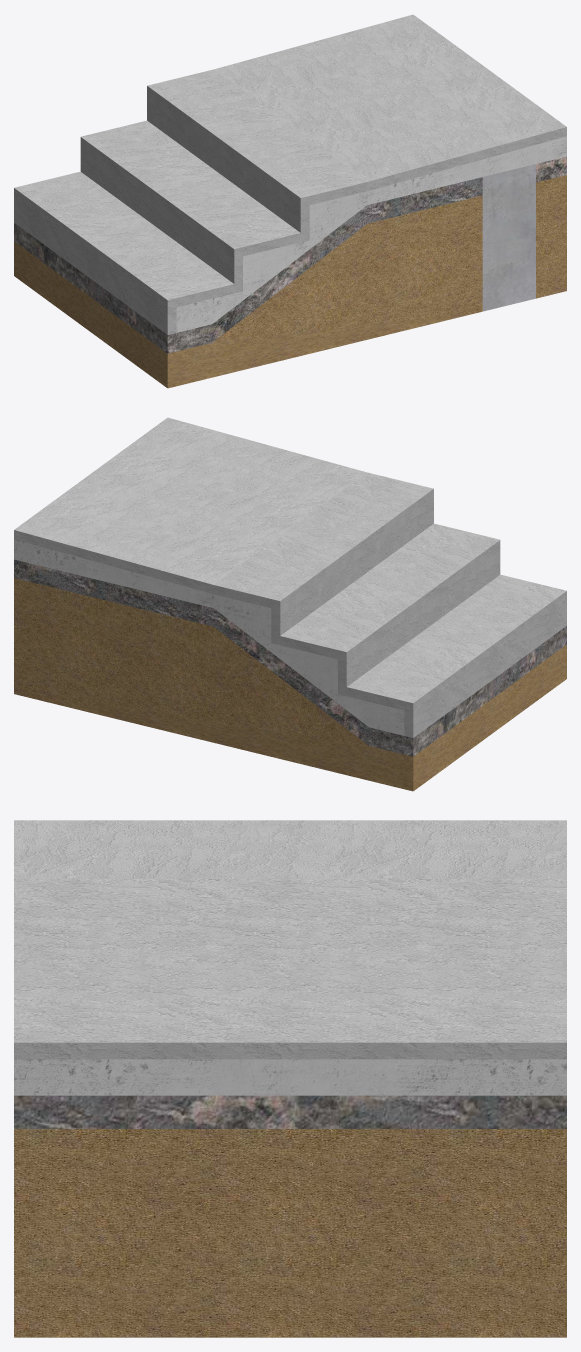
Rendered from concrete-steps.glb.
The picture shows the model from 3 angles, top to bottom: view 1: azimuth 30°, elevation 25°; view 2: azimuth 150°, elevation 25°; view 3: azimuth 270°, elevation 25°; orthographic projection. The views are drawn at different scales.
Parts seen in each view (by area): view 1: 面层, 素土夯实, 80mm 厚碎石, C15 混凝土, 墙柱; view 2: 面层, 素土夯实, 80mm 厚碎石, C15 混凝土; view 3: 面层, 素土夯实, C15 混凝土, 80mm 厚碎石.
Part boxes in pixels (x1=…): 面层: x1=14, y1=14, x2=566, y2=334; 素土夯实: x1=14, y1=175, x2=566, y2=388; 80mm 厚碎石: x1=14, y1=156, x2=566, y2=353; C15 混凝土: x1=176, y1=136, x2=566, y2=332; 墙柱: x1=482, y1=164, x2=535, y2=311; 面层: x1=14, y1=417, x2=566, y2=737; 素土夯实: x1=14, y1=578, x2=566, y2=791; 80mm 厚碎石: x1=14, y1=559, x2=566, y2=756; C15 混凝土: x1=14, y1=539, x2=404, y2=735; 面层: x1=14, y1=820, x2=566, y2=1059; 素土夯实: x1=14, y1=1129, x2=566, y2=1337; C15 混凝土: x1=14, y1=1059, x2=566, y2=1095; 80mm 厚碎石: x1=14, y1=1095, x2=566, y2=1128.
Size of the model in its own units: 1.8 by 0.7069 by 1.2.
Materials: 5 (5 with a texture image).
